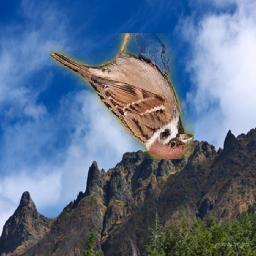Sparrow: (50, 33, 194, 159)
